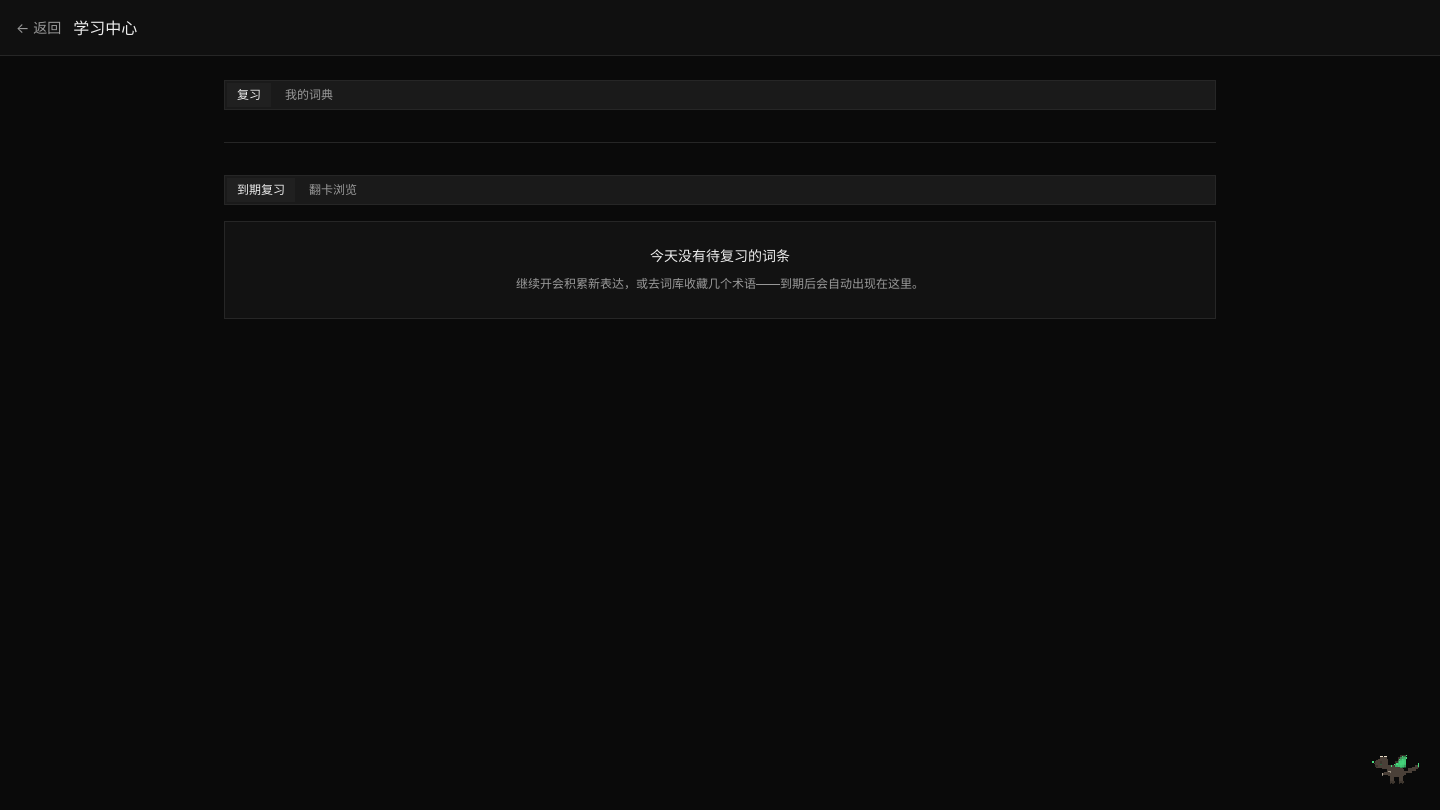
/review page — Bit celebration wiring (v0.5.1 Bit sprint) › switches between the review flow and GlossaryPanel via the center tab
Click the button with test id "center-tab-glossary".
click(309, 95)  # box [275,83,343,107]
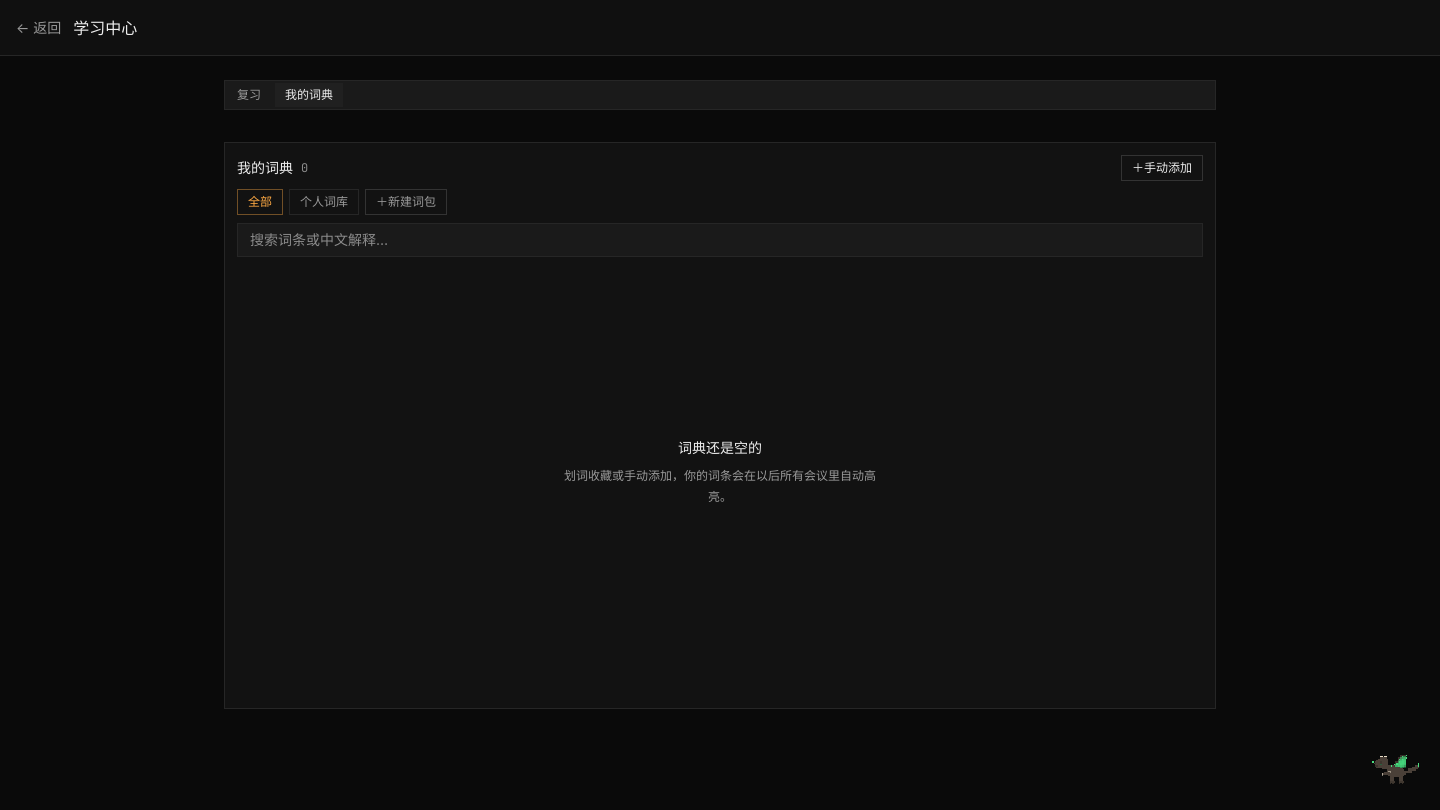
Result: the element with test id "glossary-panel" is shown at [225,143,1215,708]
Click the button with test id "center-tab-review".
click(249, 95)  # box [227,83,271,107]
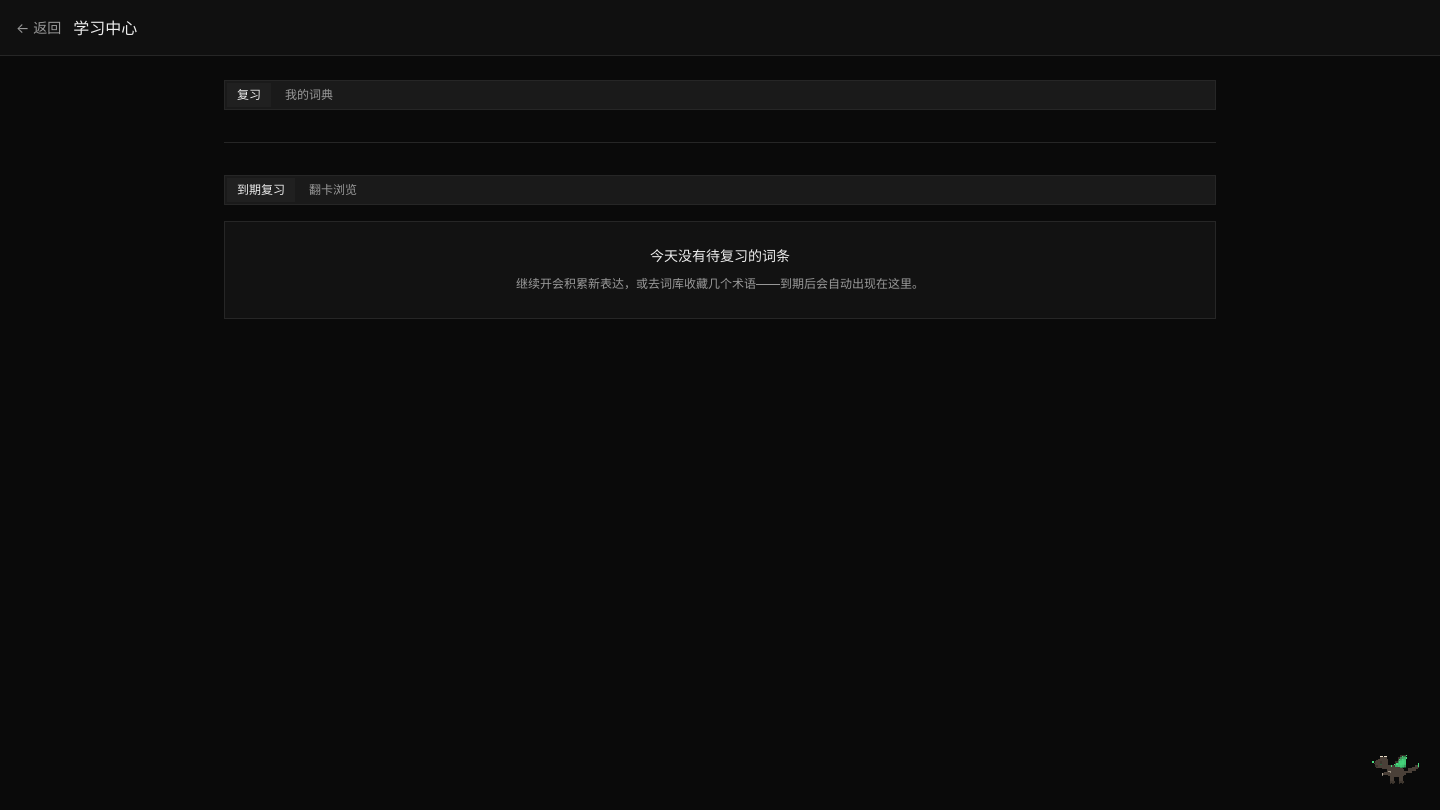
Result: the element with test id "glossary-panel" is gone
